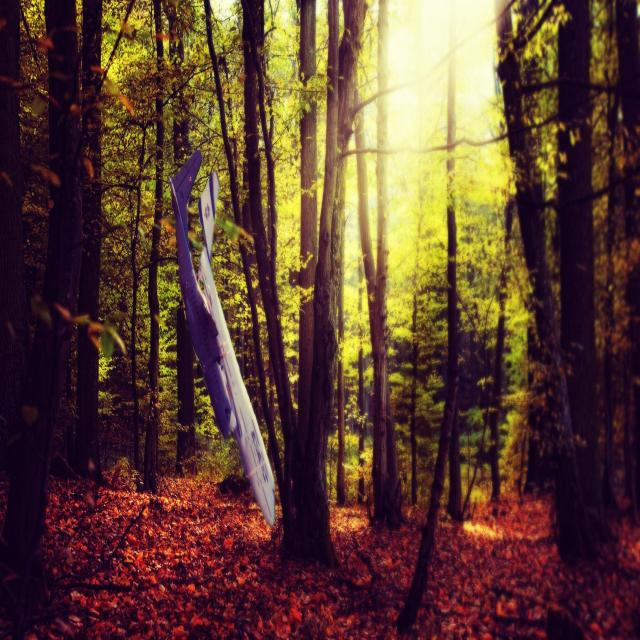airplane: (167, 148, 276, 528)
